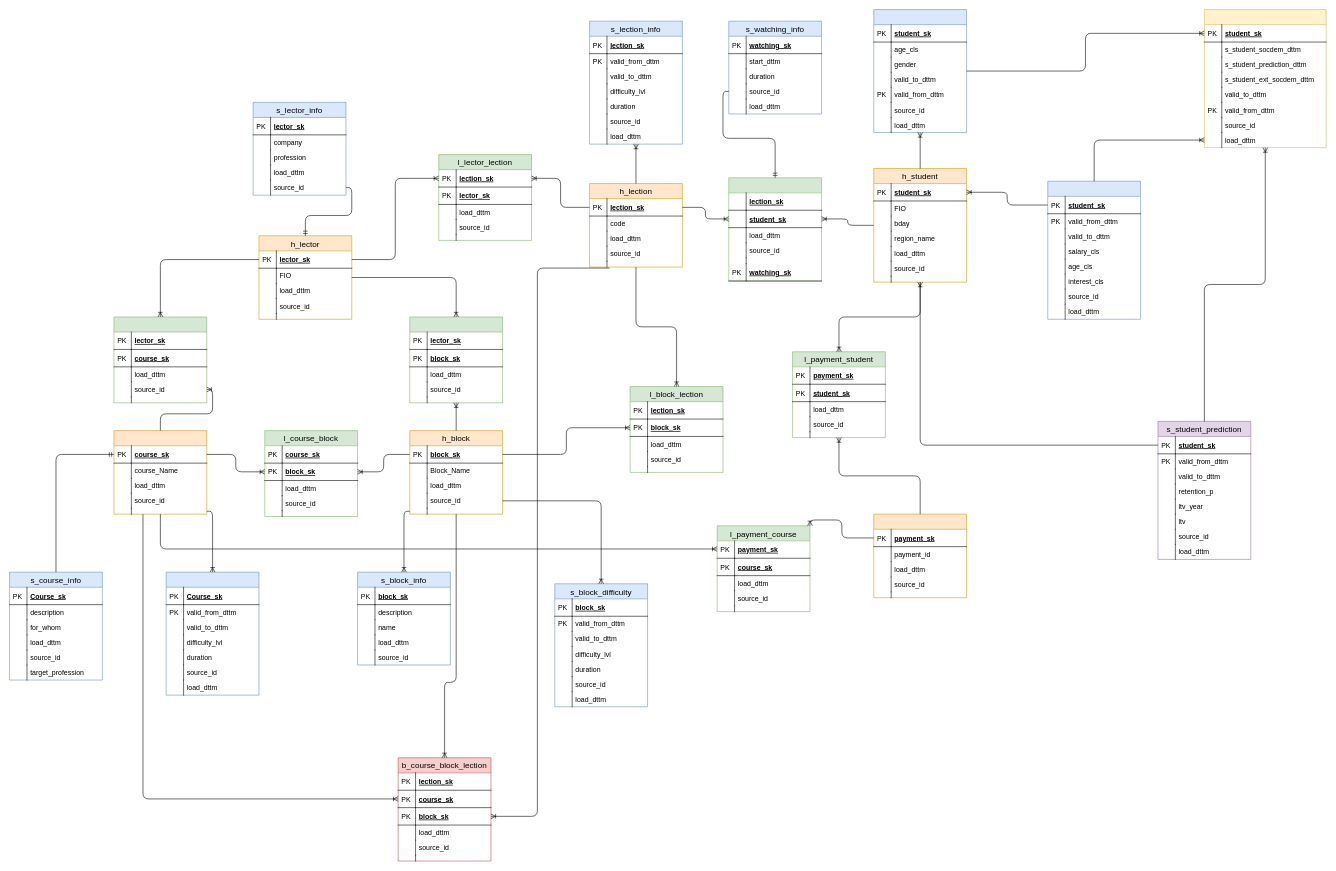
The diagram is 1336 pixels wide and 871 high, and some of its shapes have lost their labels. The box of each missing label's shape, as (x1, y1, x2, y2) in pixels:
h_course: (113, 430, 207, 514)
h_payment: (873, 514, 967, 598)
l_block_head: (409, 316, 503, 403)
l_headliner: (113, 316, 207, 403)
l_watching_lection: (728, 177, 822, 281)
pit_student: (1204, 9, 1326, 148)
s_course_difficulty: (166, 572, 259, 695)
s_student_ext_socdem: (1047, 181, 1141, 319)
s_student_socdem: (873, 9, 967, 133)
